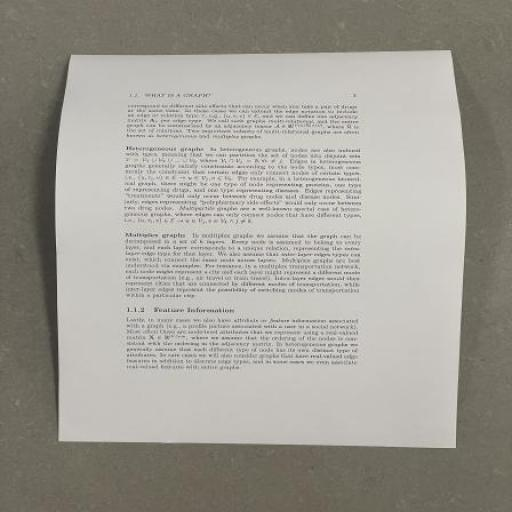paper: (17, 23, 503, 498)
